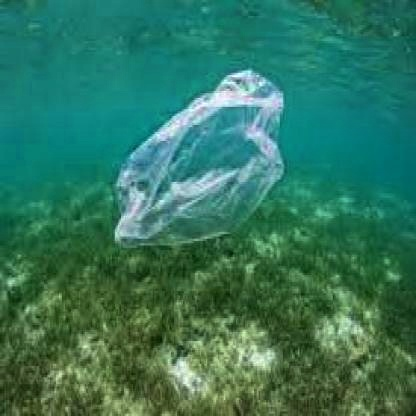pbag: (109, 61, 290, 264)
